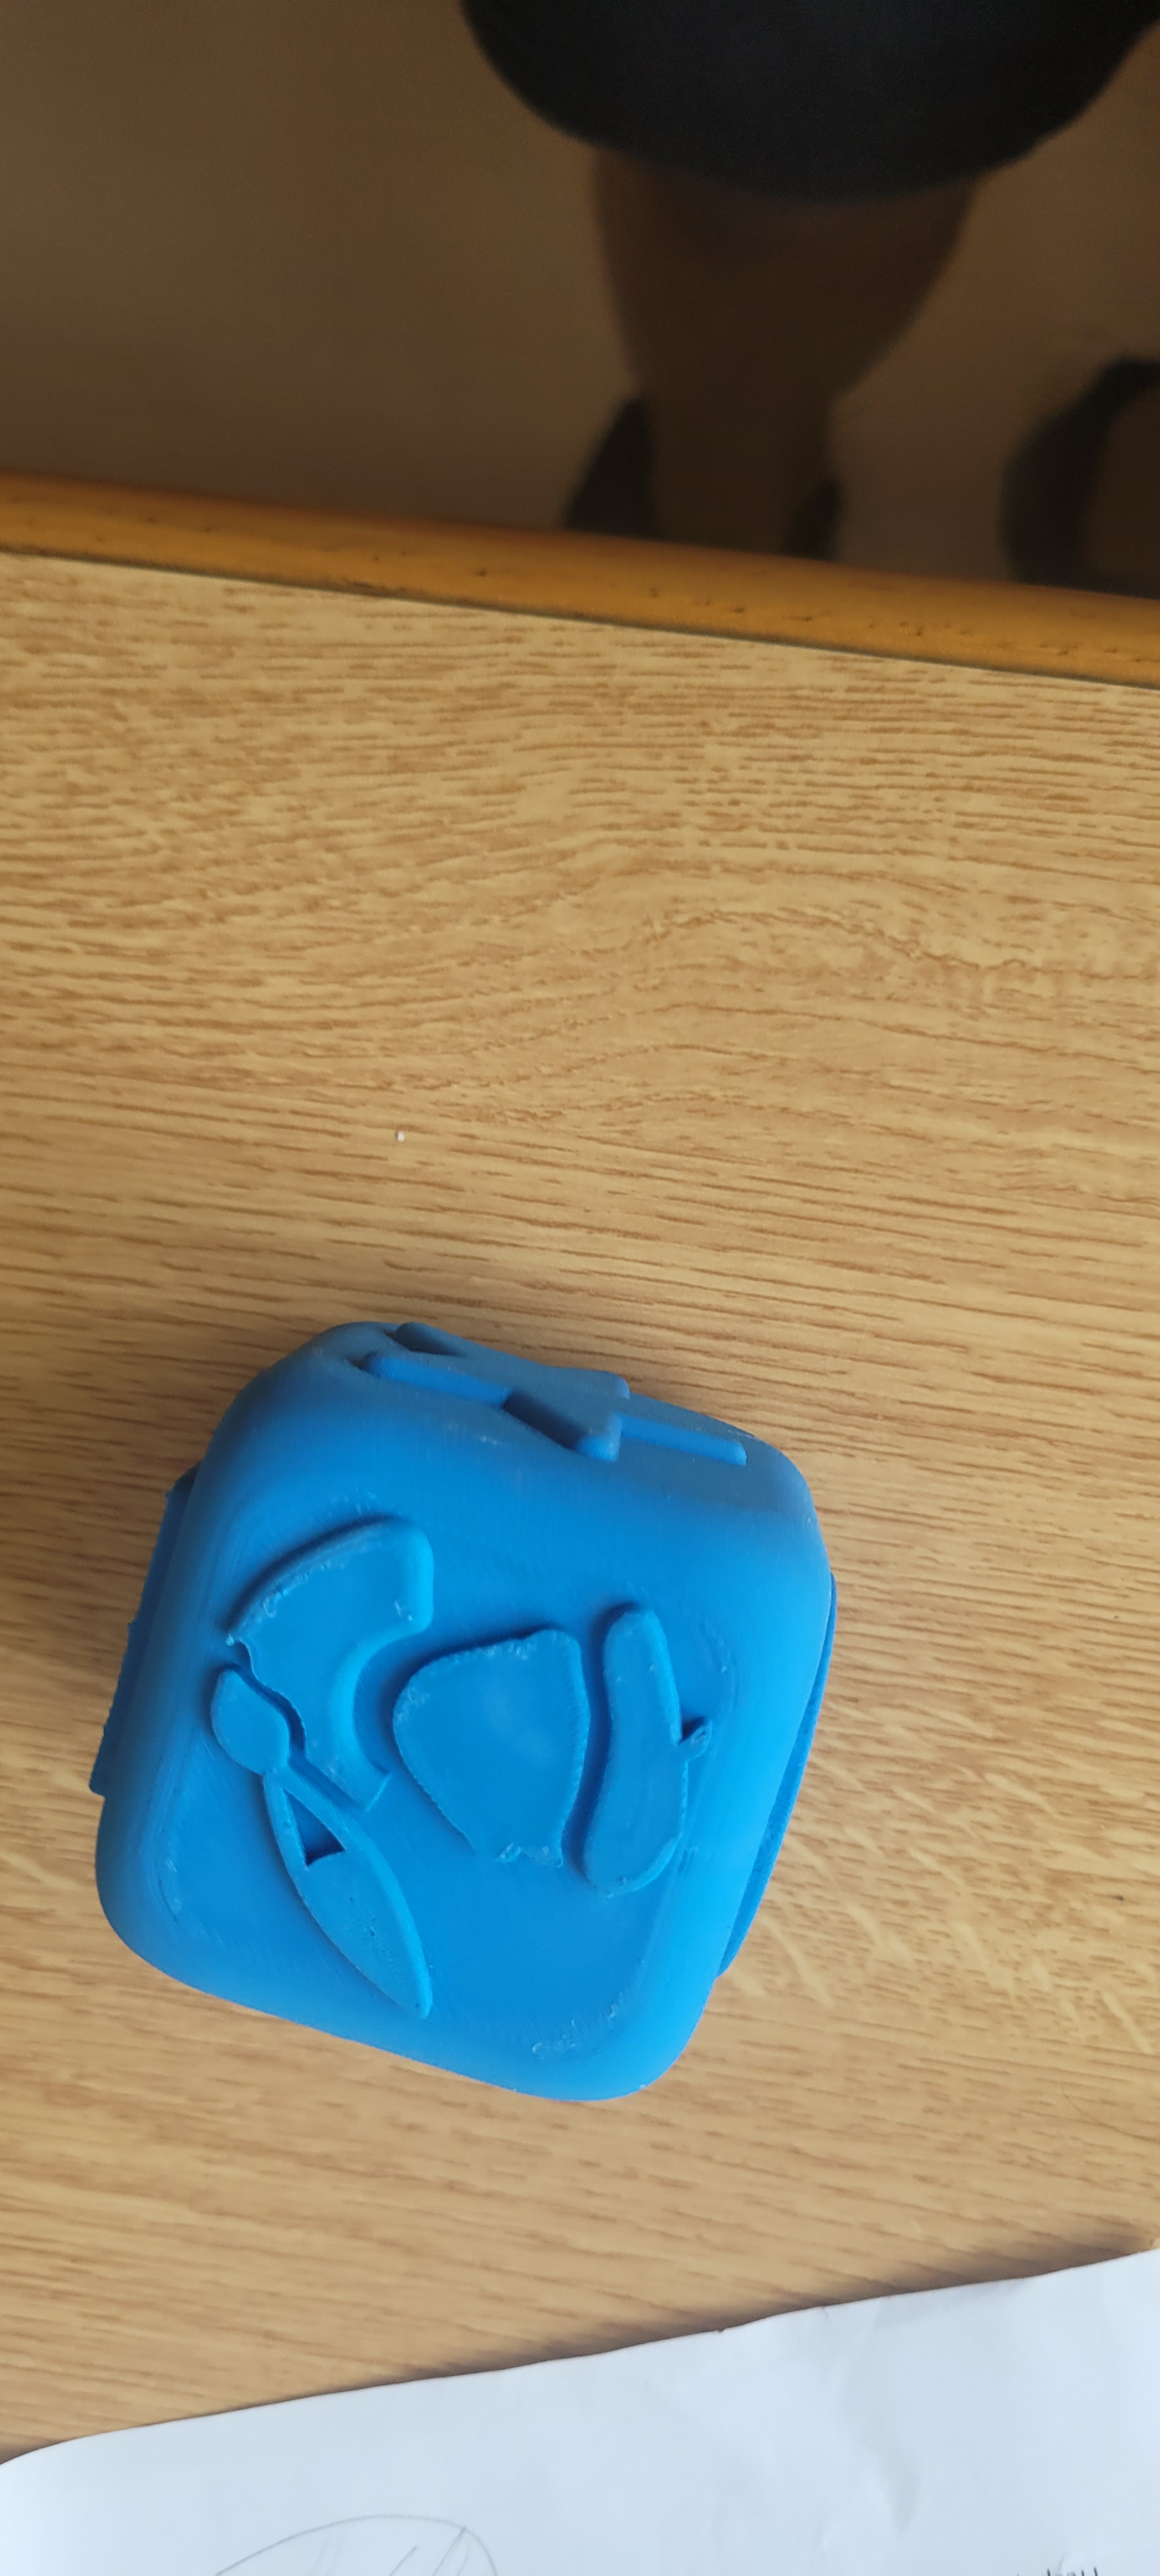Artist_Info: (161, 1321, 848, 2039)
